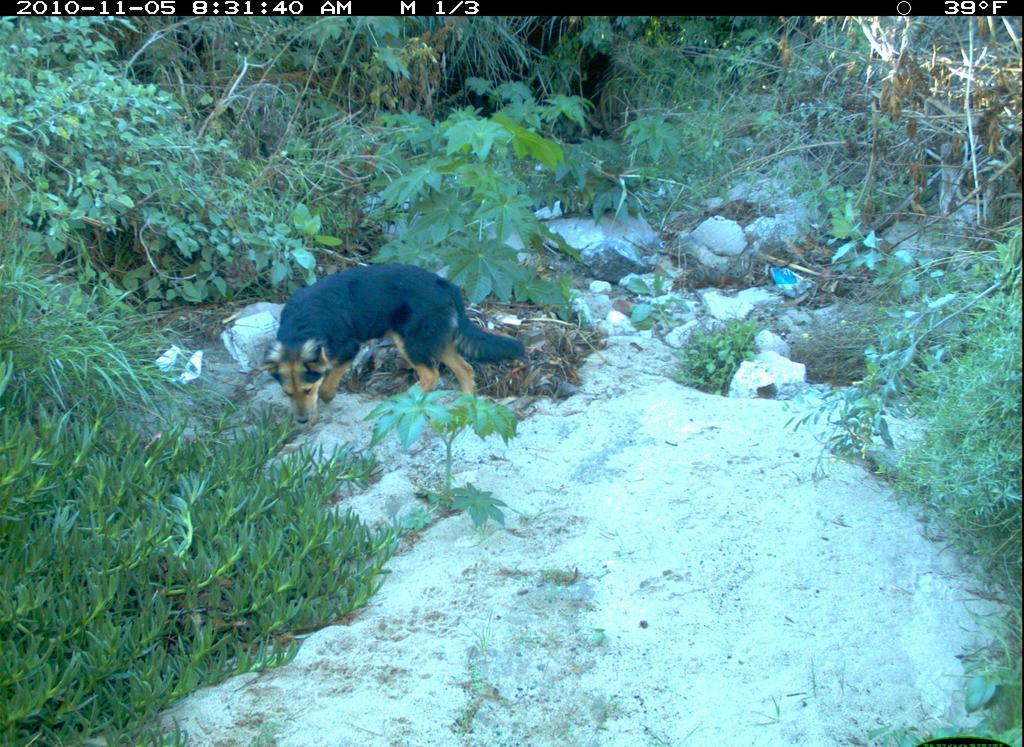dog: (273, 249, 534, 431)
